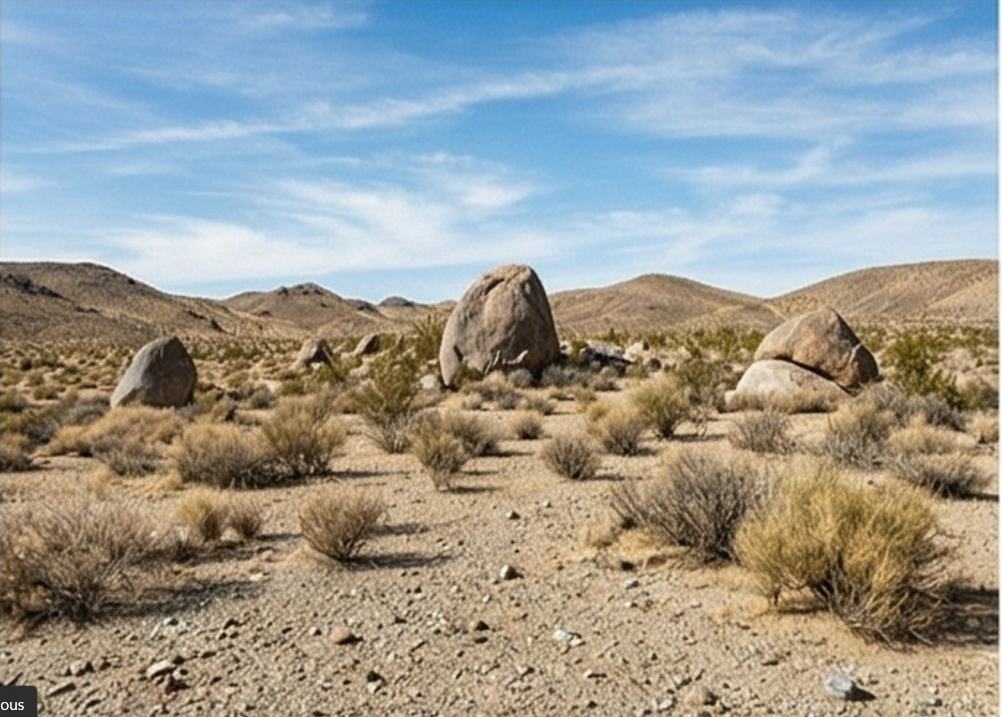rocks: (439, 265, 560, 386), (728, 309, 879, 404), (113, 337, 196, 405)
